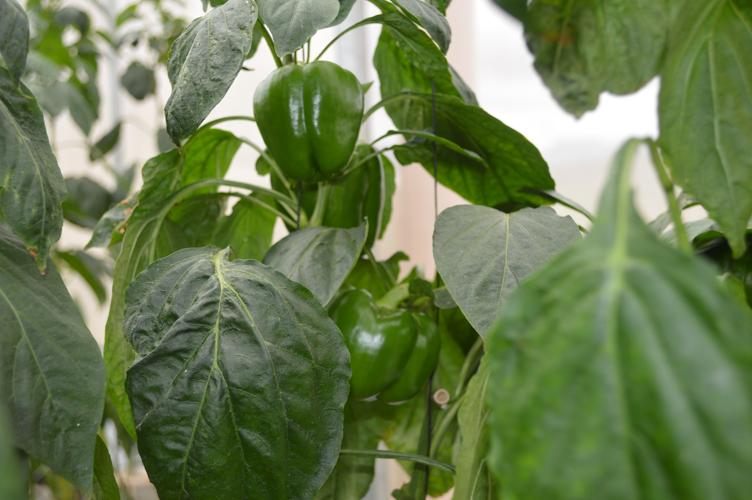BellPepper: (311, 278, 440, 407), (249, 51, 360, 188)
